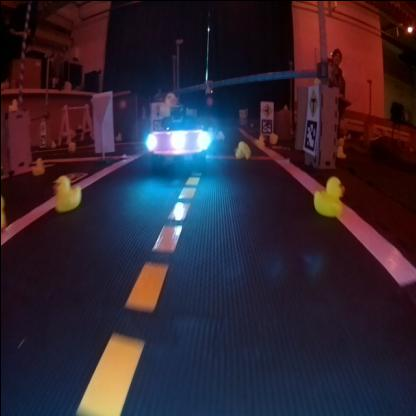Duckie: (314, 176, 342, 214), (54, 174, 76, 210), (233, 139, 249, 157), (31, 156, 41, 174)
Duckiebot: (150, 115, 208, 168)
Intersection sign: (306, 86, 317, 114), (262, 101, 272, 115)
QR code: (302, 122, 316, 152), (258, 118, 272, 132)
